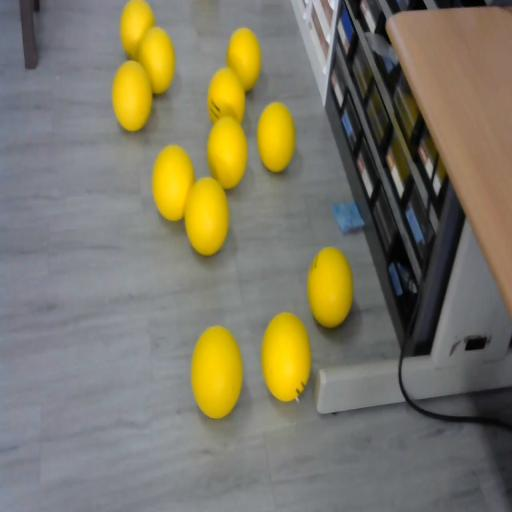FUEL: (190, 323, 243, 419), (260, 310, 312, 402), (306, 244, 354, 328), (183, 175, 230, 255), (150, 142, 195, 222), (206, 114, 248, 188), (112, 60, 152, 132), (257, 102, 296, 171), (226, 27, 262, 91), (120, 0, 155, 60)
